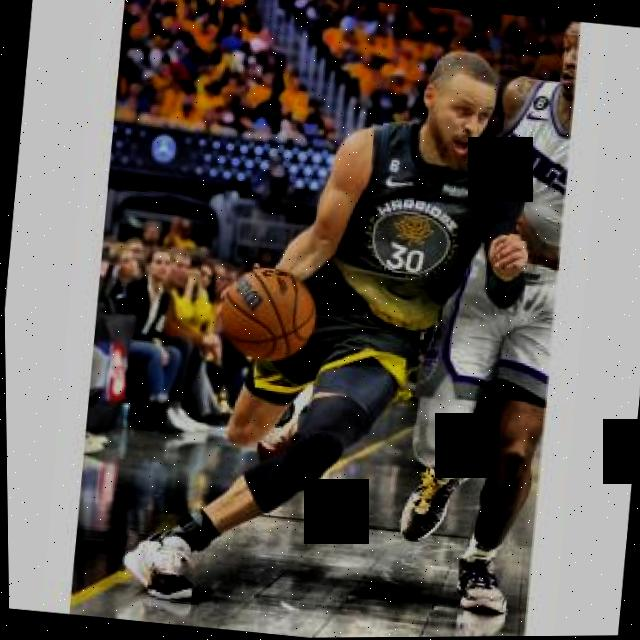shoe: (397, 437, 478, 547), (112, 525, 196, 606), (452, 546, 511, 615)
